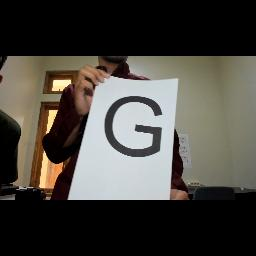g: (102, 94, 172, 162)
